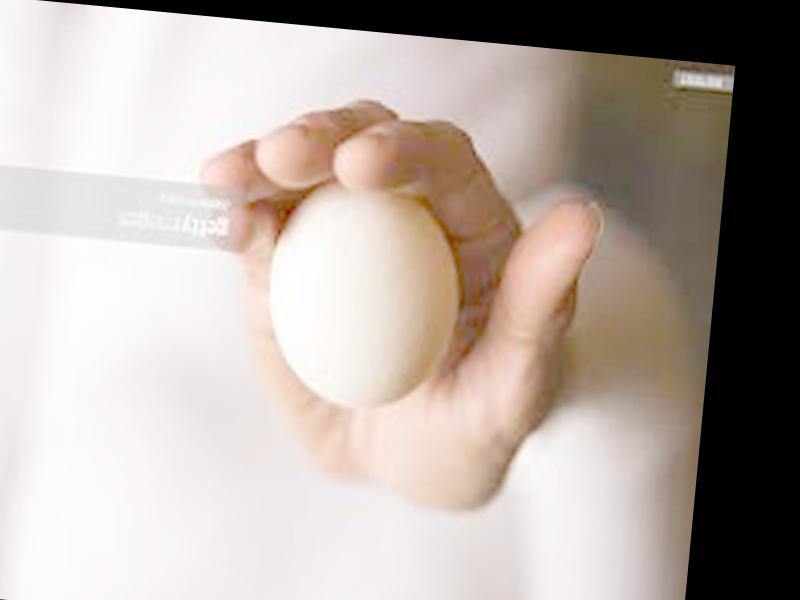Eggs: (259, 177, 471, 413)
